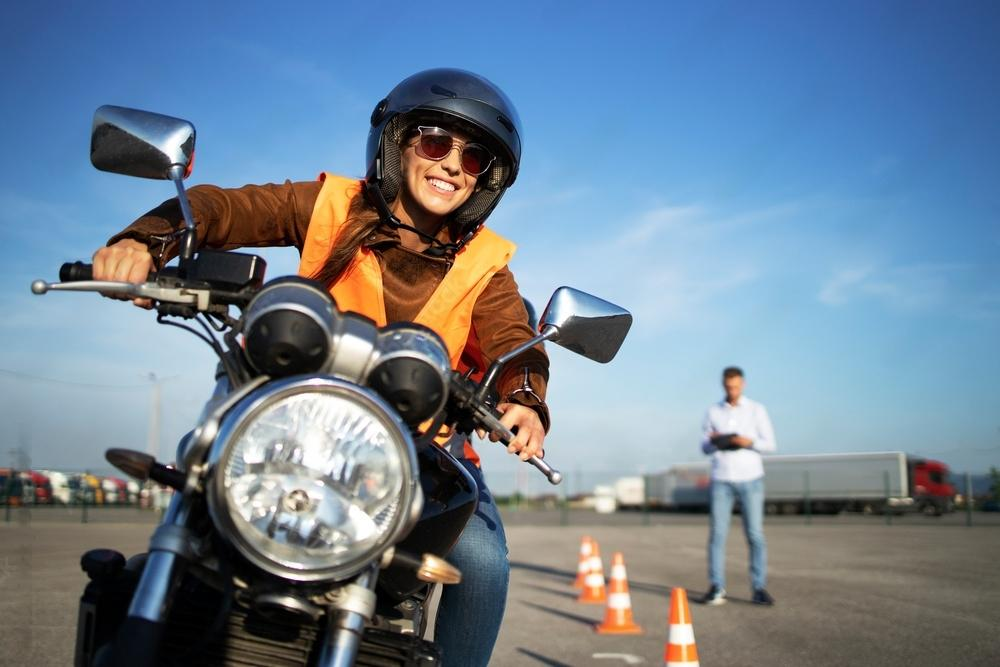helmet: (365, 66, 525, 257)
